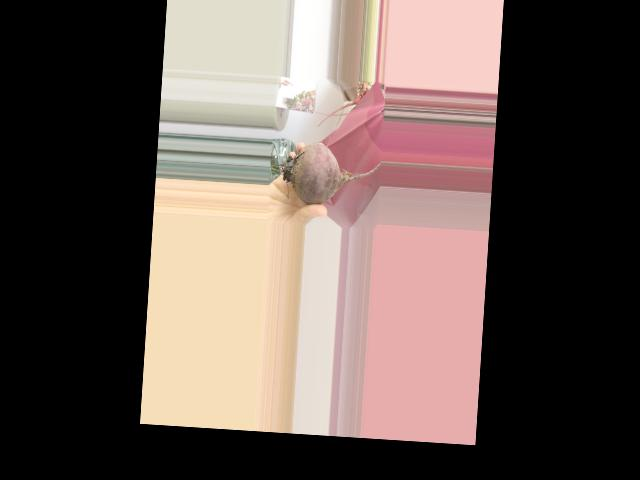beet: (267, 139, 382, 208)
